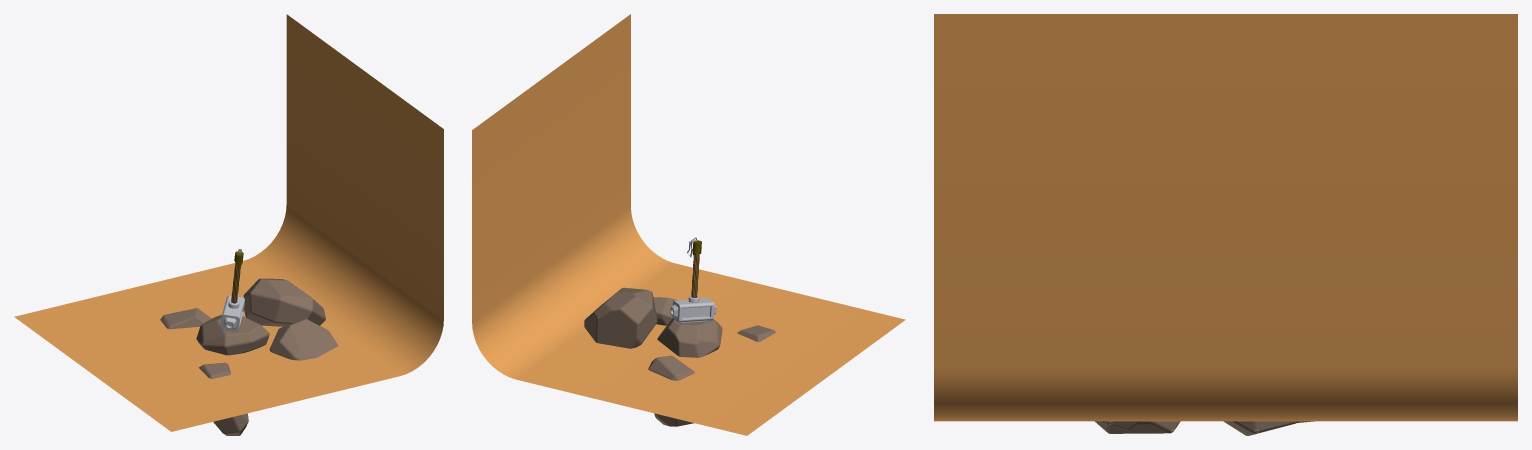
File: hammer.gltf
The picture shows the model from 3 angles, left to right: view 1: azimuth 30°, elevation 25°; view 2: azimuth 150°, elevation 25°; view 3: azimuth 270°, elevation 25°; orthographic projection. The views are drawn at different scales.
Parts seen in each view (by area): view 1: ground, rock, hammer; view 2: ground, rock, hammer; view 3: ground, rock.
Boxes of the visible parts, x1=… form: ground: x1=14, y1=14, x2=443, y2=431; rock: x1=160, y1=278, x2=337, y2=435; hammer: x1=220, y1=249, x2=244, y2=331; ground: x1=472, y1=14, x2=905, y2=435; rock: x1=584, y1=287, x2=775, y2=426; hammer: x1=670, y1=237, x2=716, y2=323; ground: x1=934, y1=14, x2=1517, y2=421; rock: x1=1095, y1=421, x2=1314, y2=435.
Size of the model in its own units: 12.97 by 13.78 by 12.97.
